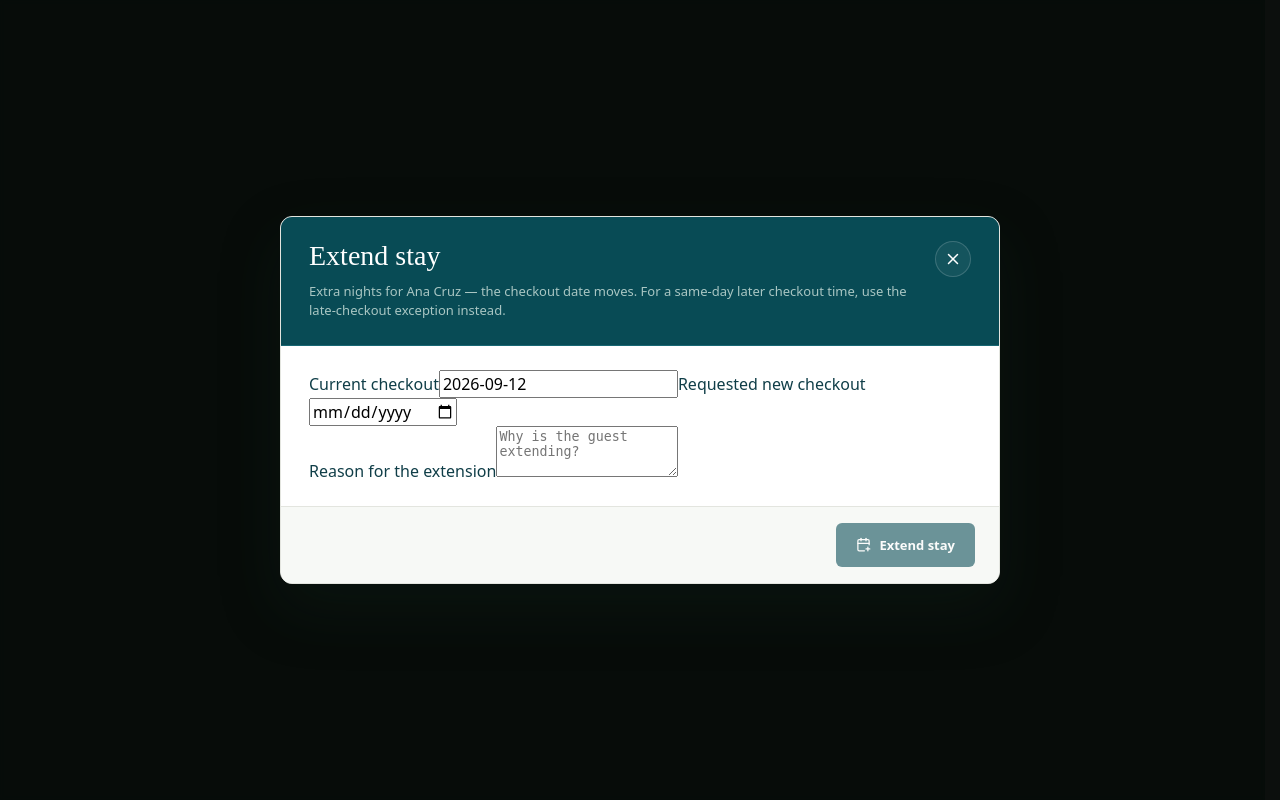
Test: ExtendStayDialog › renders the current stay from the reservation and previews server-calculated figures
Check: the field showing "2026-09-12" is shown, box [439,370,678,398]
Check: the text "Ana Cruz" is shown, box [309,282,907,319]
Type "2026-09-15" into the date field labelled "Requested new checkout".
click(383, 412); type("2026-09-15")  # box [309,398,457,426]
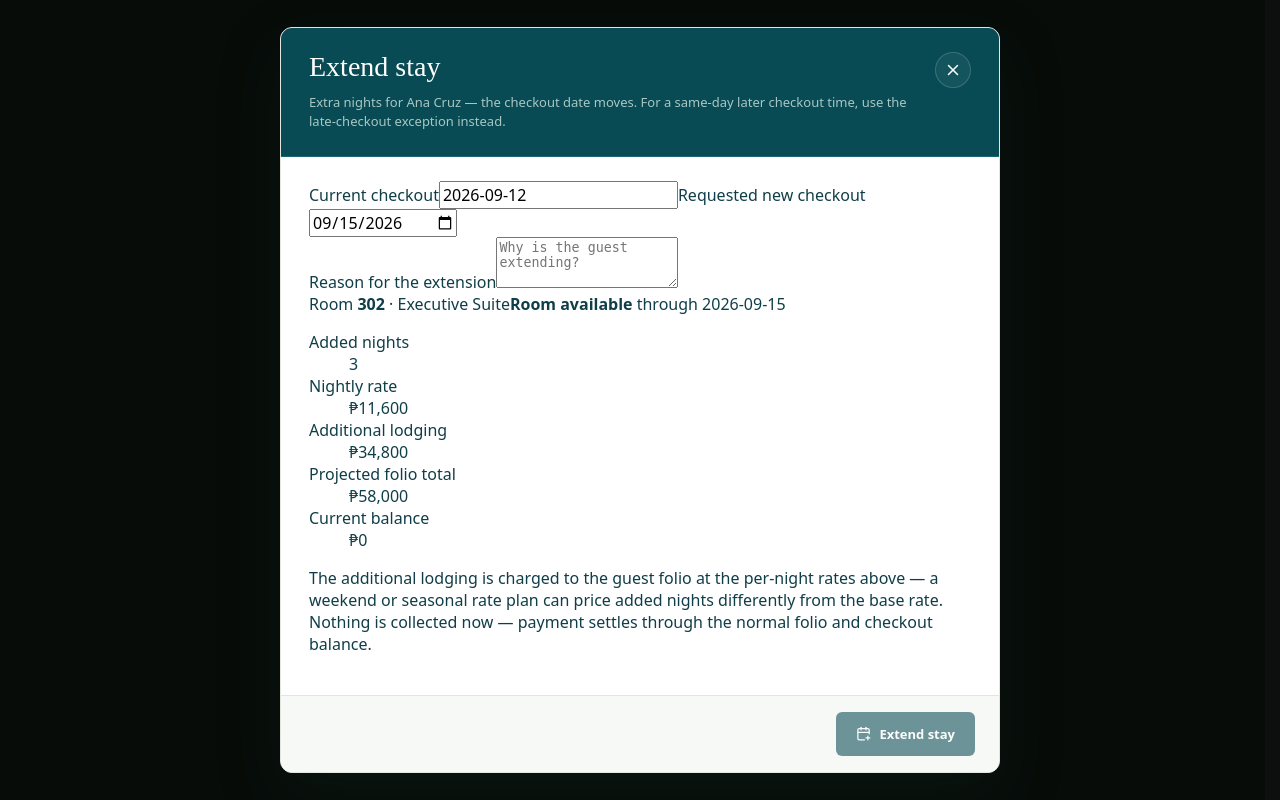
Check: the text "Room available" is shown, box [510,293,633,315]
Check: the text "3" is shown, box [349,353,358,375]
Check: the text "Additional lodging" is shown, box [309,419,447,441]
